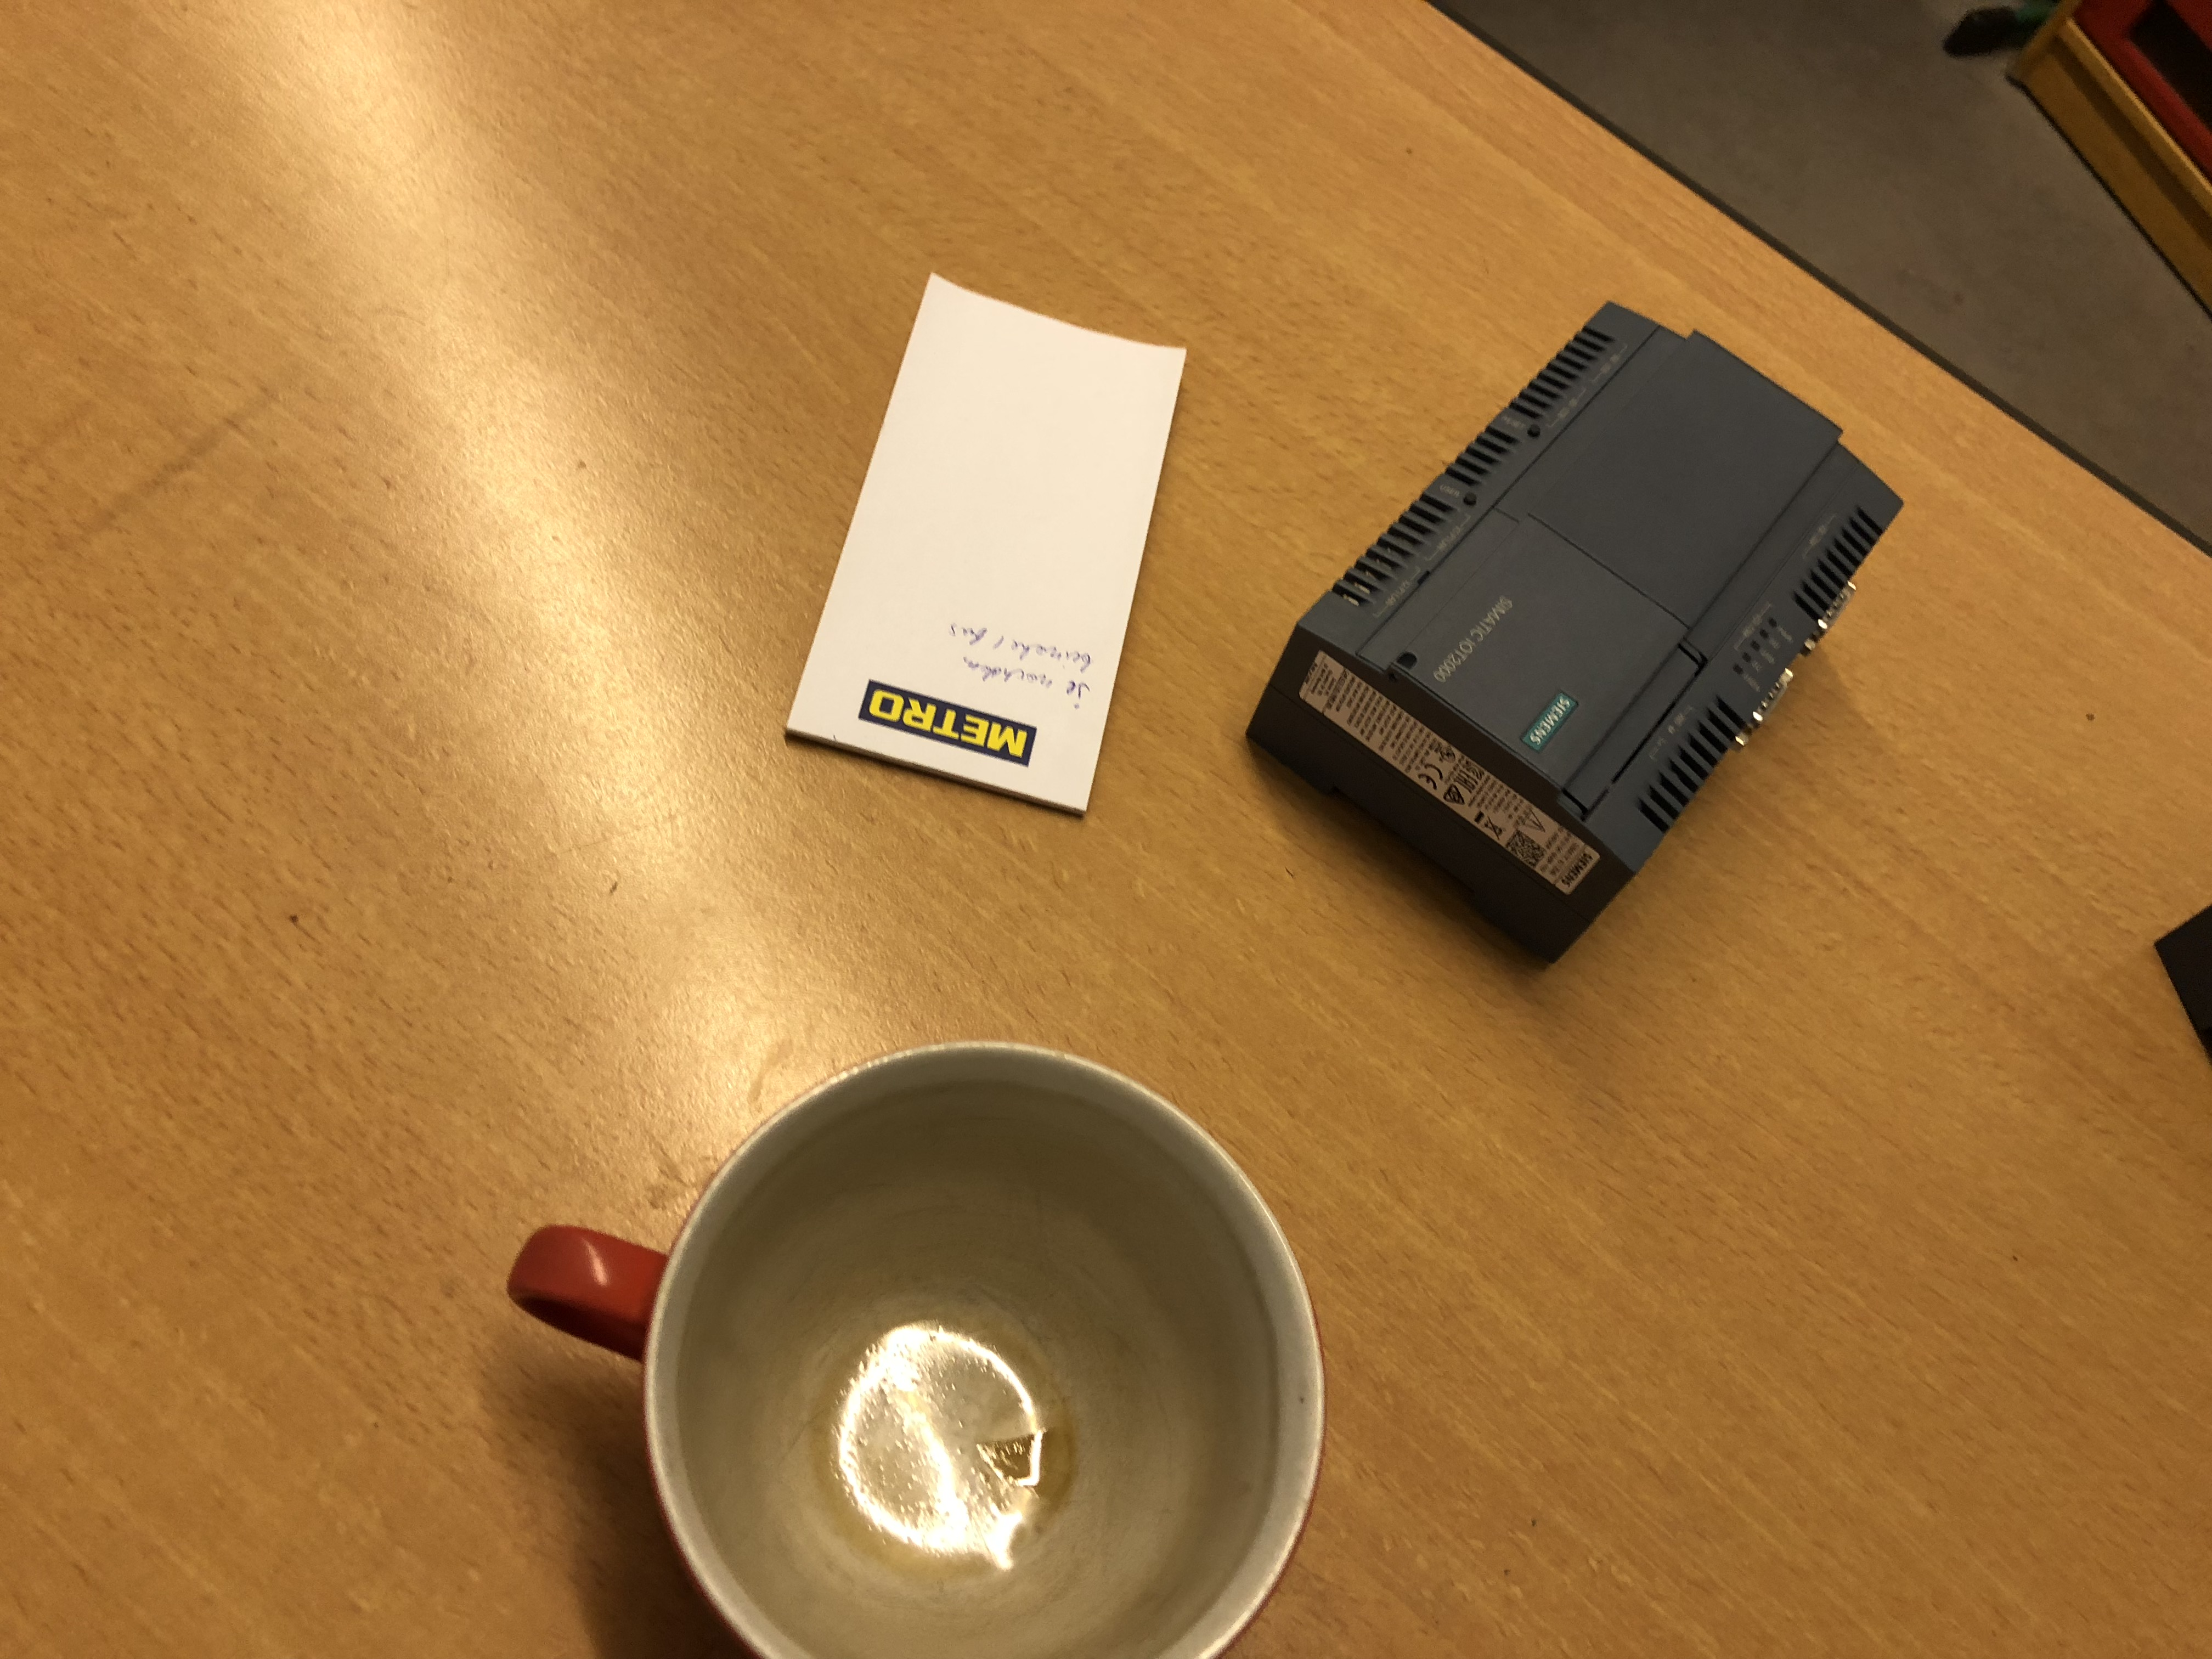device: (1245, 300, 1904, 964)
